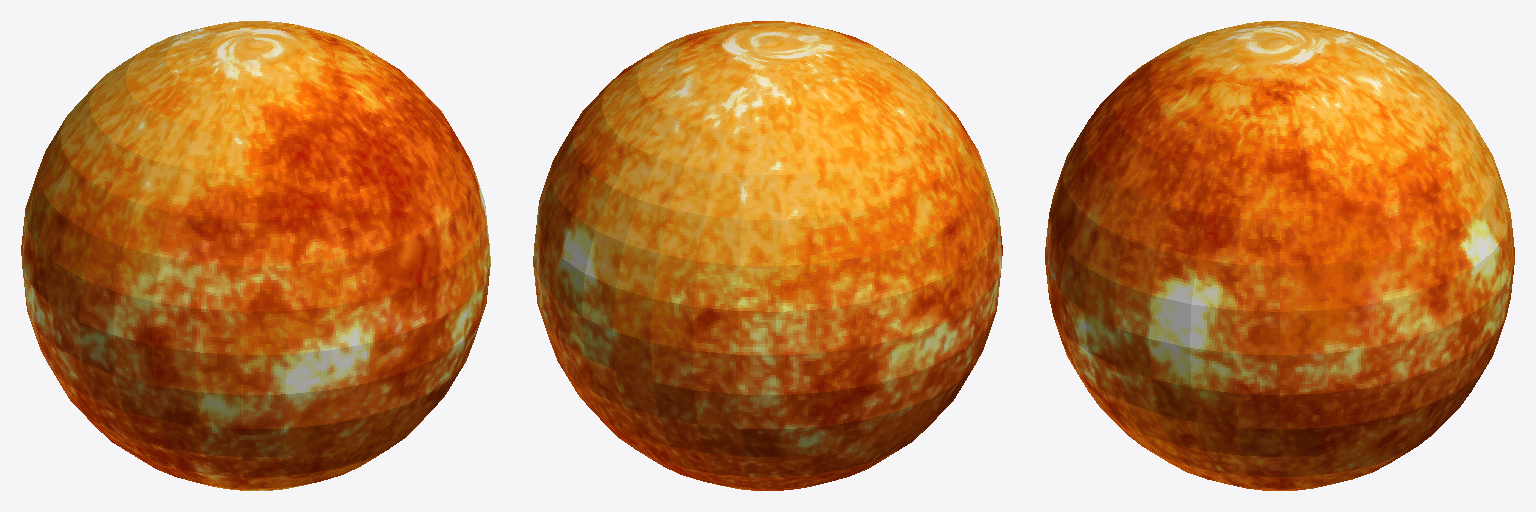
3 renders of one model, left to right at view 1: azimuth 30°, elevation 25°; view 2: azimuth 150°, elevation 25°; view 3: azimuth 270°, elevation 25°, orthographic.
Parts seen in each view (by area): view 1: Sphere; view 2: Sphere; view 3: Sphere.
Boxes of the visible parts, x1,y1,x2,y2 form: Sphere: [21, 21, 490, 490]; Sphere: [533, 21, 1002, 490]; Sphere: [1045, 21, 1514, 490].
Bounding box in the file's own units: 2 × 2 × 2.
Materials: 1 (1 with a texture image).